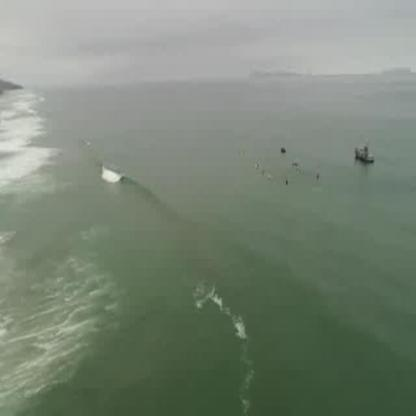Boat: (354, 140, 378, 171)
